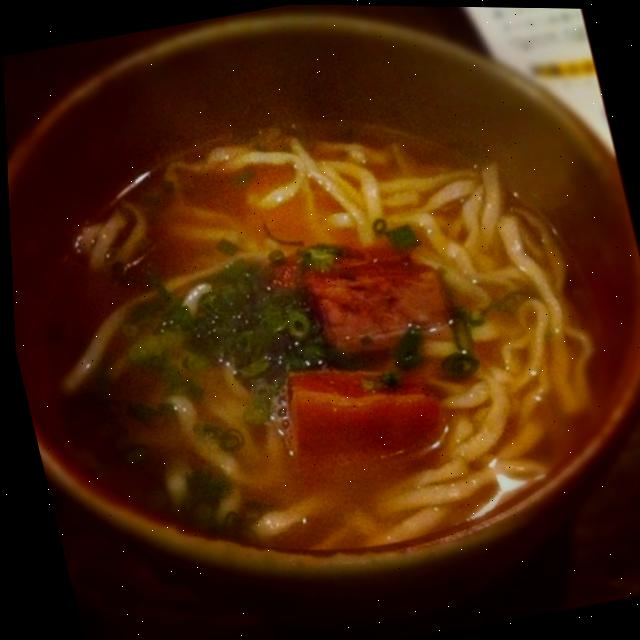熟制海鲜: (0, 0, 632, 487)
